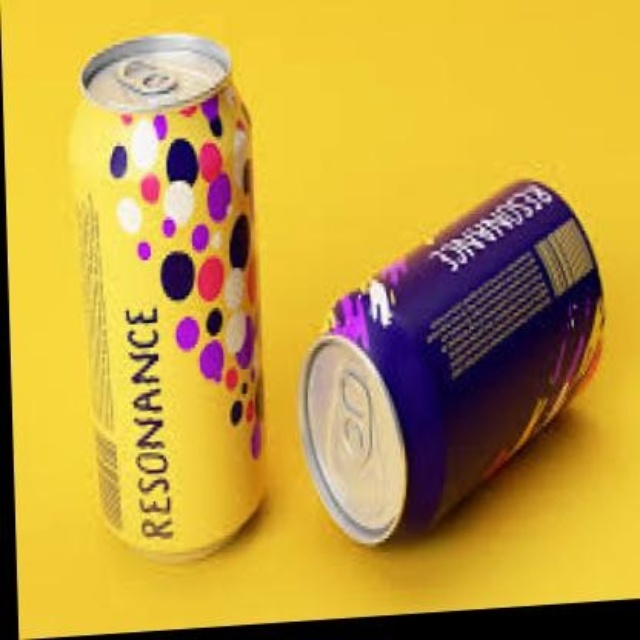trash: (298, 182, 603, 543), (71, 34, 262, 555)
